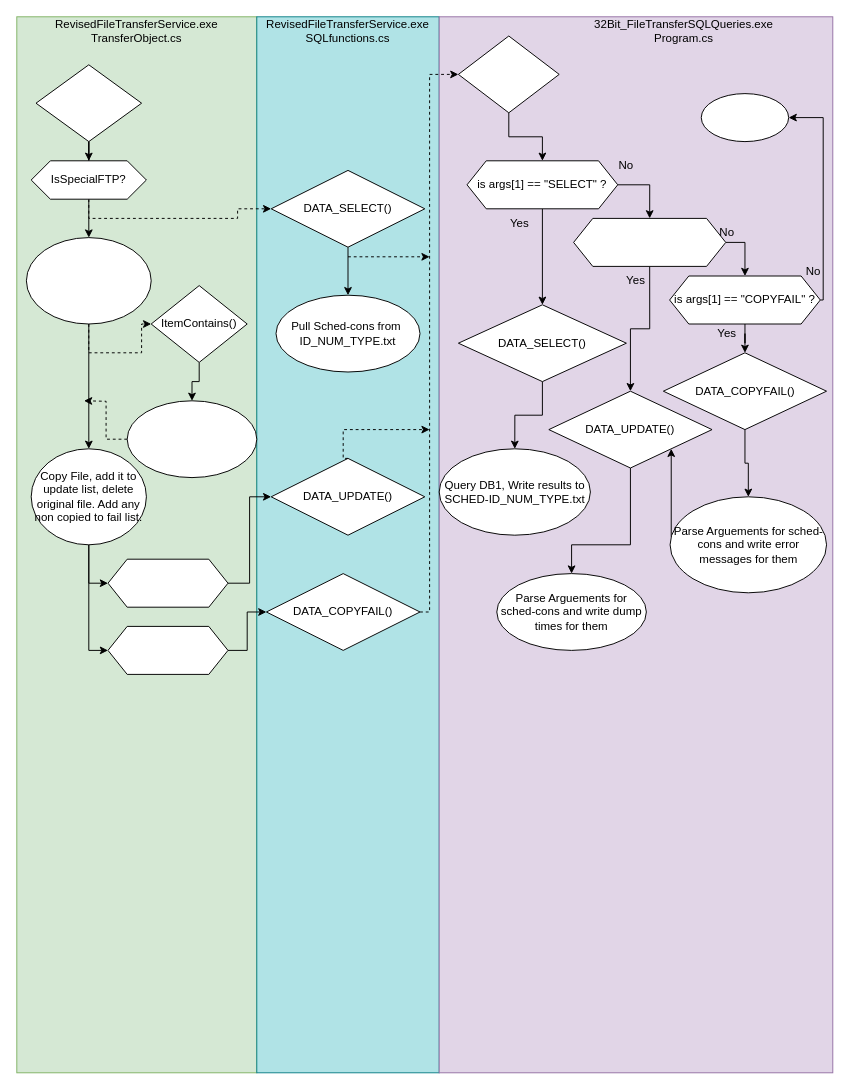
This 859x1090 diagram has some shape labels left out. The box of each missing label's shape, as (x1, y1, x2, y2) in pixels:
checks the sched con list to see if the current file needs copied: (126, 400, 257, 478)
FTPFileMove(): (35, 64, 142, 142)
if toCopy.Count > 0: (107, 625, 228, 674)
if toUpdate.Count > 0: (107, 558, 228, 607)
is args[1] == "UPDATE" ?: (573, 217, 726, 266)
Main(args[]): (457, 35, 559, 113)
Pulll the names of all the available files on the FTP server: (25, 237, 151, 324)
return;: (700, 93, 789, 142)
